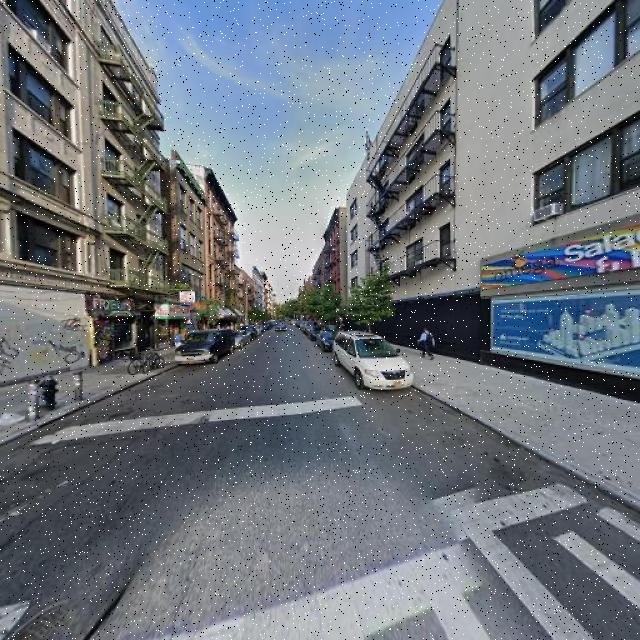Building: (349, 1, 640, 395), (1, 1, 158, 379)
